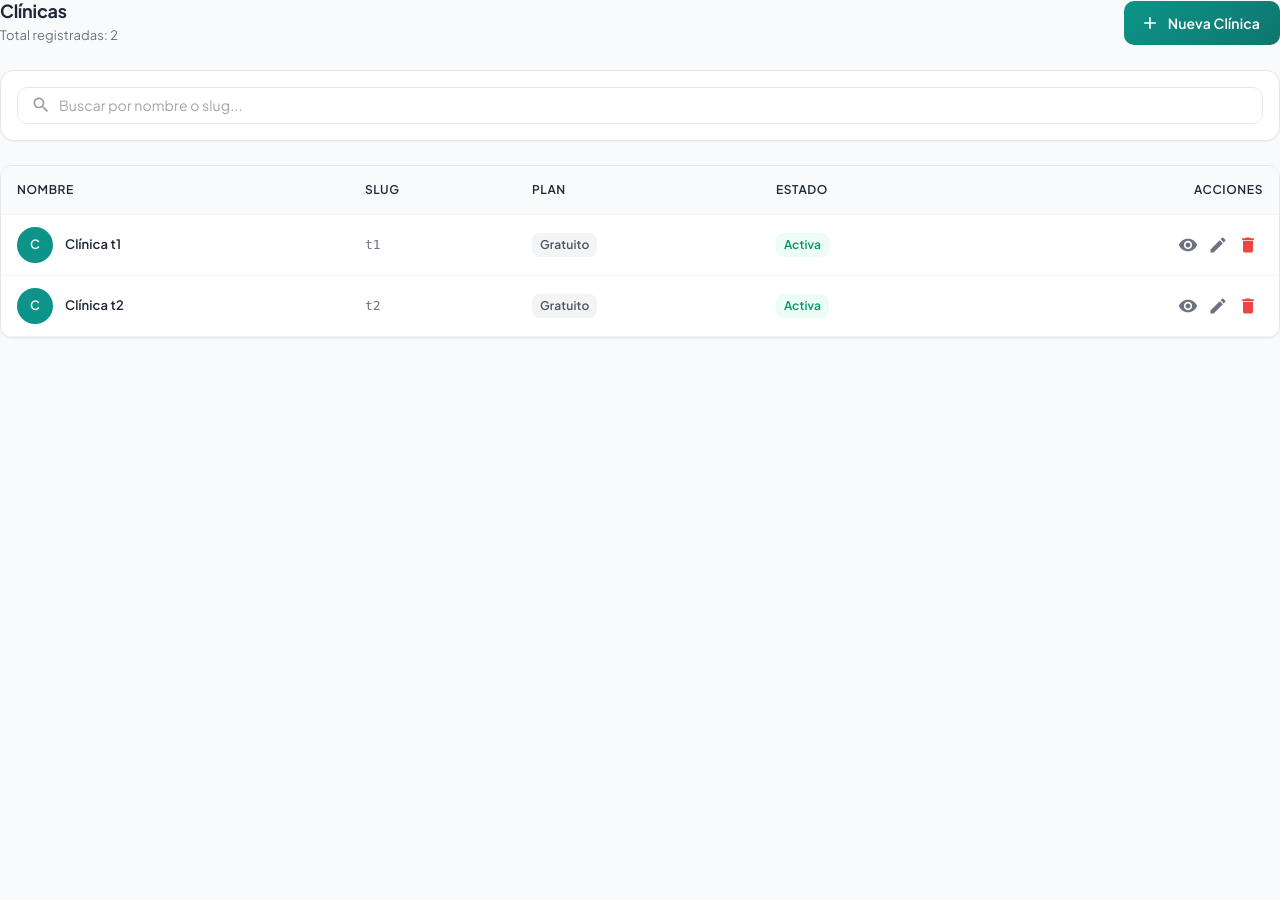
it: SuperAdminTenantsPage › opens the detail drawer with tenant stats
Step 1. Click the 2nd button → {"x": 1188, "y": 245}, box x1=1173 y1=230 x2=1203 y2=260
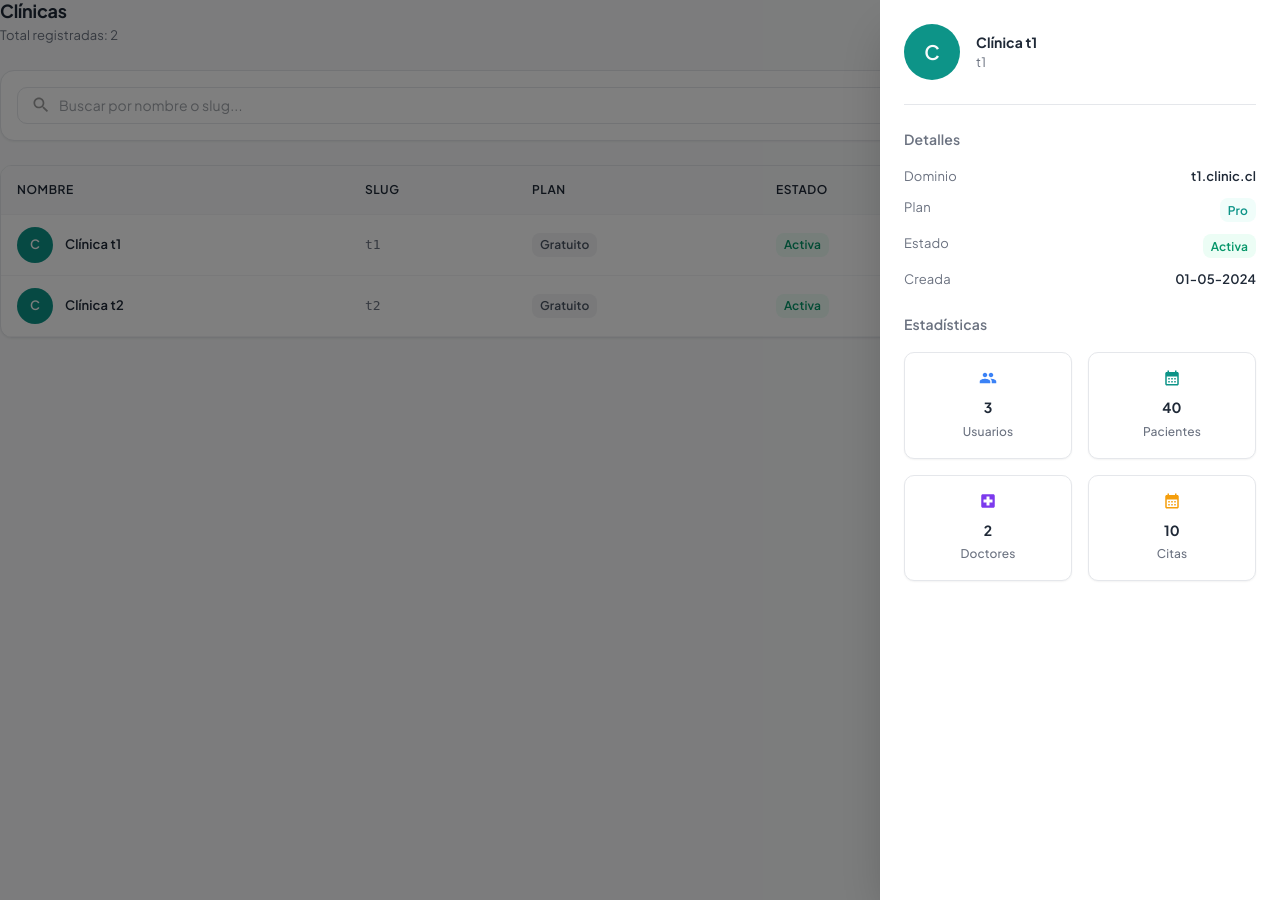
Expected: the heading "Detalles" is shown, x1=904 y1=130 x2=960 y2=148
Expected: the text "Pro" is shown, x1=1228 y1=203 x2=1248 y2=218
